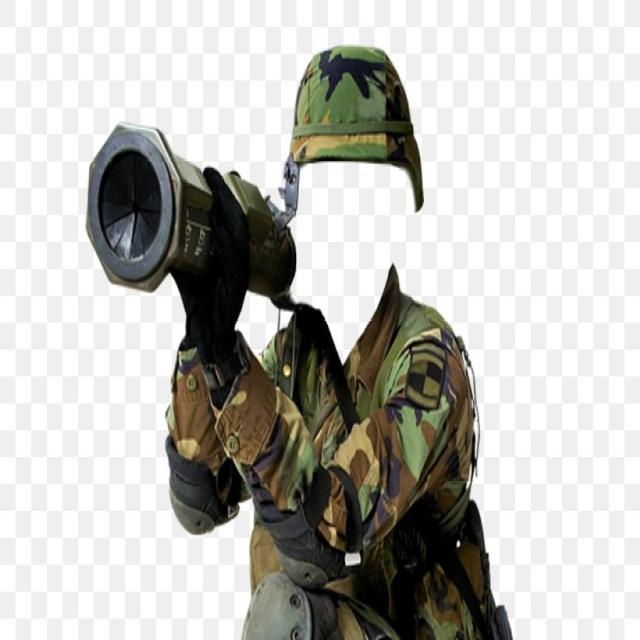bazooka: (64, 73, 318, 330)
